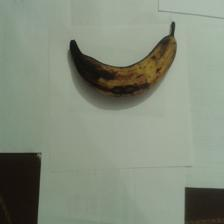Banana Rotten: (62, 34, 182, 103)
